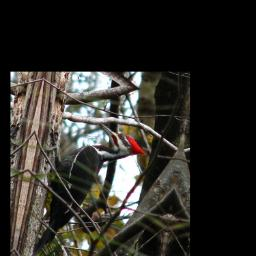Woodpecker: (26, 113, 150, 256)
